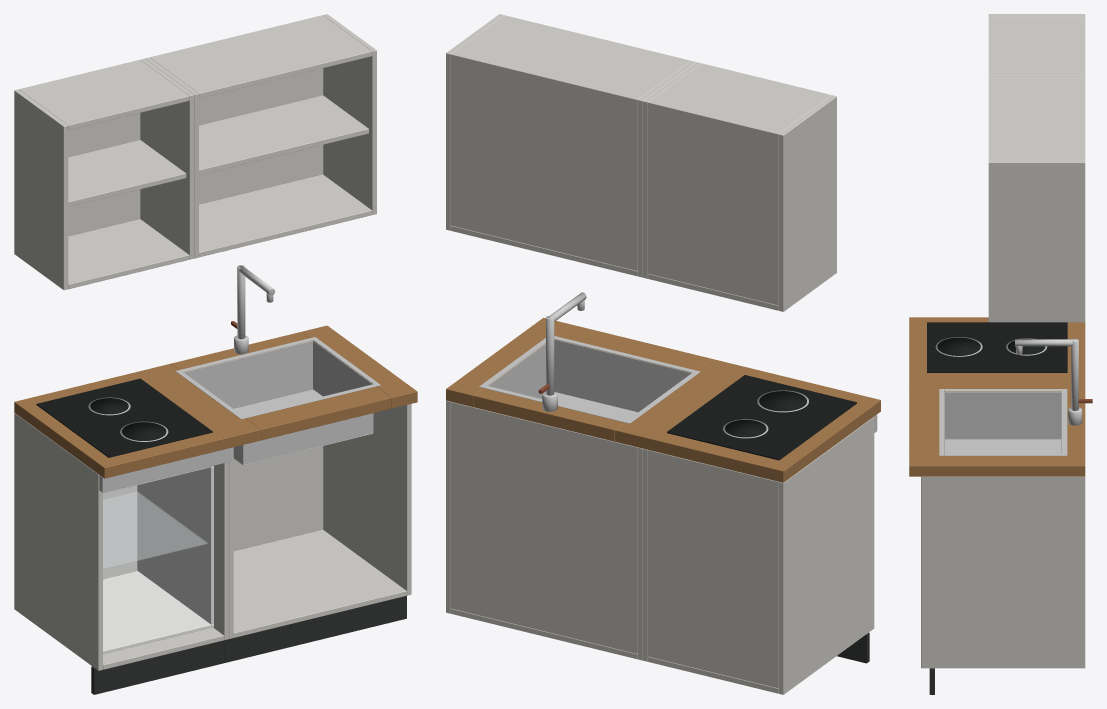
The model's file is mini_kitchen_body.glb.
3 views of the same model, side by side, from view 1: azimuth 30°, elevation 25°; view 2: azimuth 150°, elevation 25°; view 3: azimuth 270°, elevation 25° (orthographic). The views are drawn at different scales.
Parts seen in each view (by area): view 1: mini_kitchen_body; view 2: mini_kitchen_body; view 3: mini_kitchen_body.
Part boxes in pixels (x1,y1,x2,y2): mini_kitchen_body: (14,14,417,694); mini_kitchen_body: (446,14,880,694); mini_kitchen_body: (909,14,1092,694).
Bounding box in the file's own units: 1.2 × 2 × 0.625.
